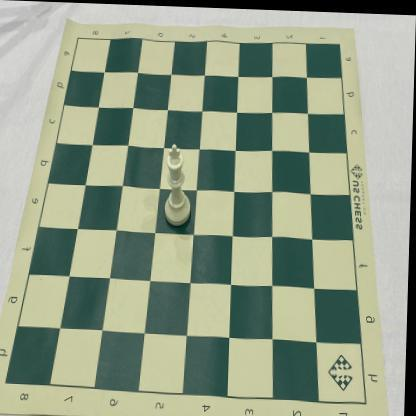white-king: (166, 142, 194, 226)
